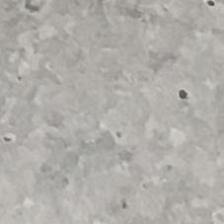Non_Crack: (22, 47, 224, 224)
